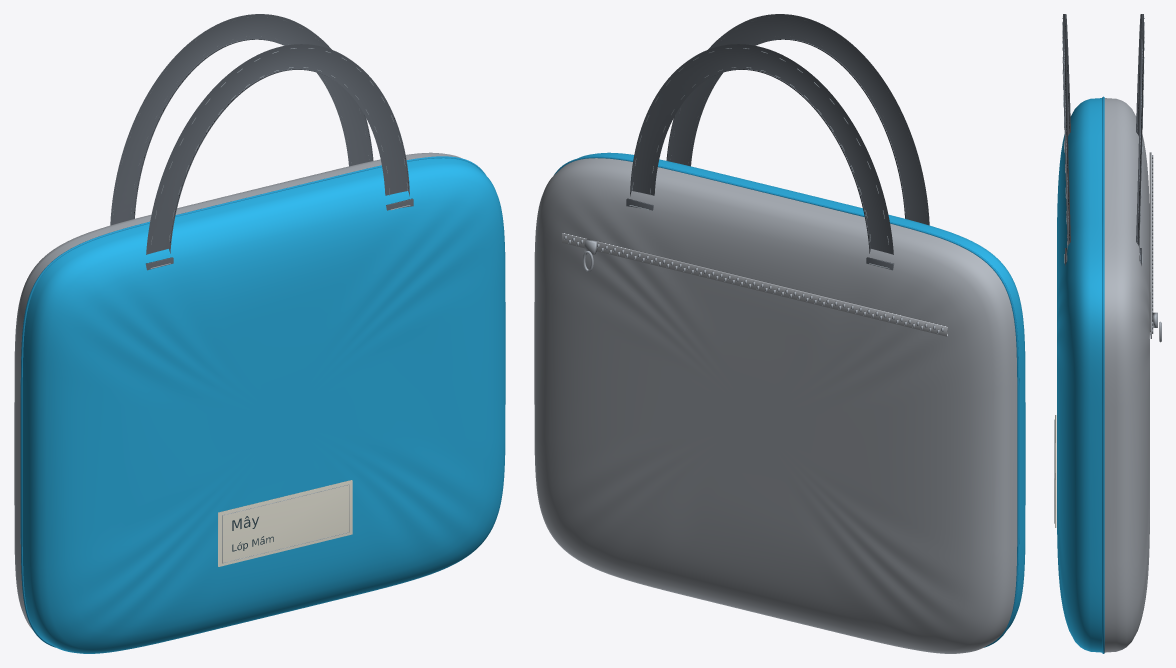
File: hula_bag.glb
3 renders of one model, left to right at view 1: azimuth 30°, elevation 25°; view 2: azimuth 150°, elevation 25°; view 3: azimuth 270°, elevation 25°, orthographic. The views are drawn at different scales.
Visible parts, largest first — view 1: Front_Fabric_Blue, Handle_Webbing_Gray, Name_Label, Back_Fabric_Gray, Edge_Piping, Stitch_Thread; view 2: Back_Fabric_Gray, Handle_Webbing_Gray, Front_Fabric_Blue, Zipper_Tape, Edge_Piping, Zipper_Hardware; view 3: Front_Fabric_Blue, Back_Fabric_Gray, Handle_Webbing_Gray, Edge_Piping, Zipper_Tape, Zipper_Hardware, Stitch_Thread, Name_Label.
Boxes of the visible parts, x1,y1,x2,y2 form: Front_Fabric_Blue: [22, 158, 505, 653]; Handle_Webbing_Gray: [110, 14, 413, 270]; Name_Label: [218, 480, 352, 566]; Back_Fabric_Gray: [14, 152, 461, 629]; Edge_Piping: [20, 156, 485, 647]; Stitch_Thread: [113, 17, 410, 563]; Back_Fabric_Gray: [534, 158, 1017, 653]; Handle_Webbing_Gray: [626, 14, 929, 270]; Front_Fabric_Blue: [578, 152, 1025, 629]; Zipper_Tape: [562, 232, 947, 336]; Edge_Piping: [554, 156, 1019, 647]; Zipper_Hardware: [564, 235, 943, 333]; Front_Fabric_Blue: [1057, 98, 1102, 652]; Back_Fabric_Gray: [1104, 98, 1149, 652]; Handle_Webbing_Gray: [1062, 14, 1144, 265]; Edge_Piping: [1102, 96, 1104, 653]; Zipper_Tape: [1149, 152, 1151, 338]; Zipper_Hardware: [1152, 155, 1161, 342]; Stitch_Thread: [1054, 18, 1144, 523]; Name_Label: [1055, 415, 1056, 527].
Size of the model in its own units: 0.4824 by 0.5586 by 0.0993.
